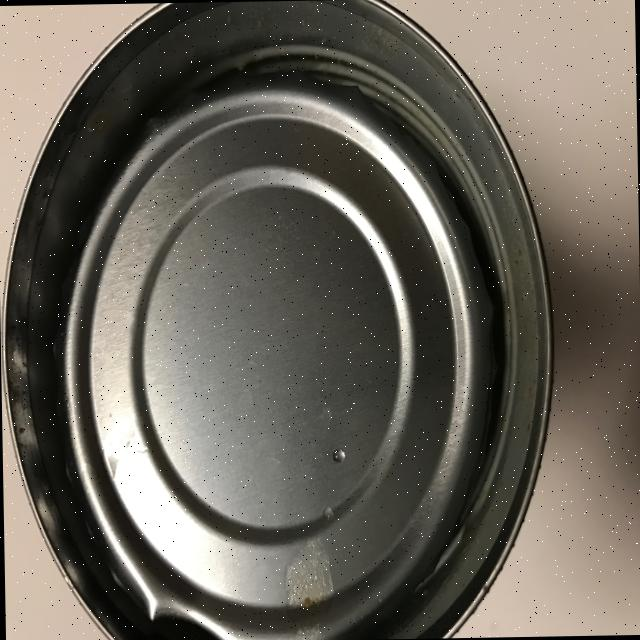metal: (0, 0, 559, 640)
